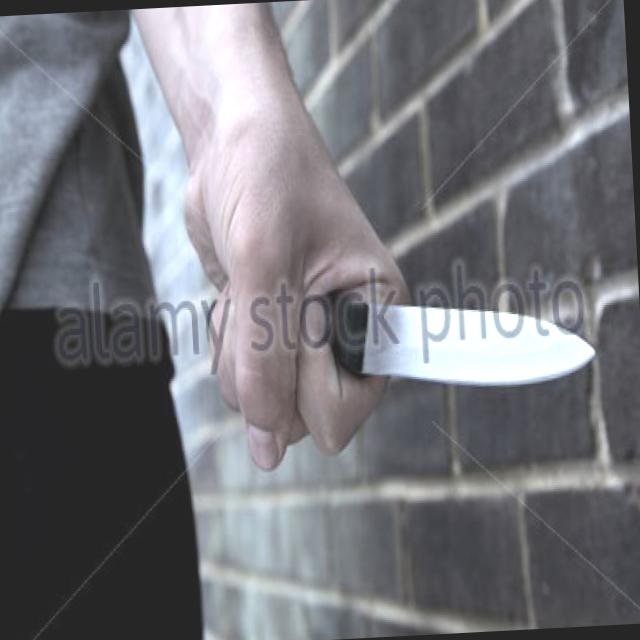knife: (228, 238, 615, 476)
